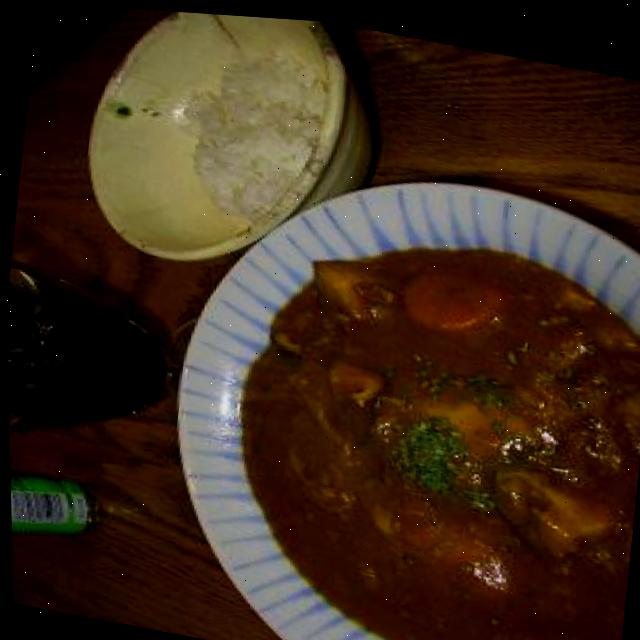汤锅炖物: (131, 118, 640, 640)
